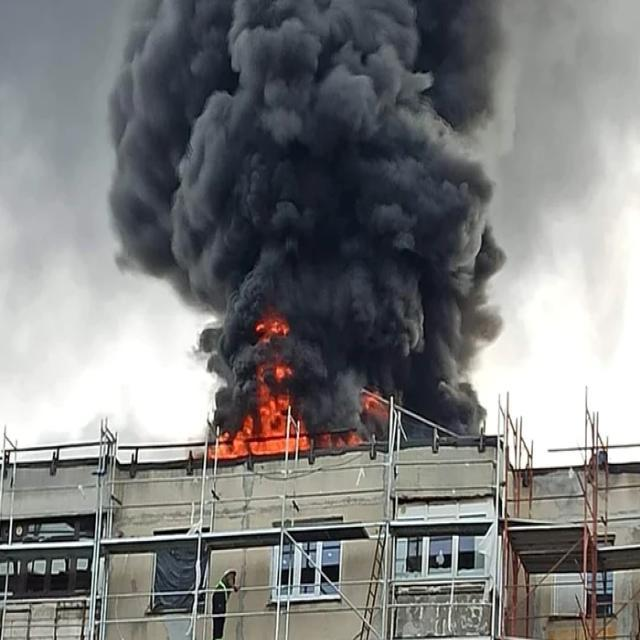Fire: (230, 390, 306, 462)
Smoke: (61, 0, 542, 411)
